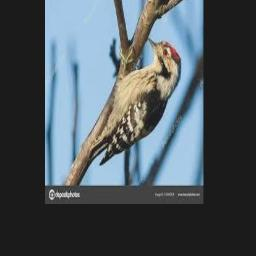Woodpecker: (88, 38, 181, 166)
